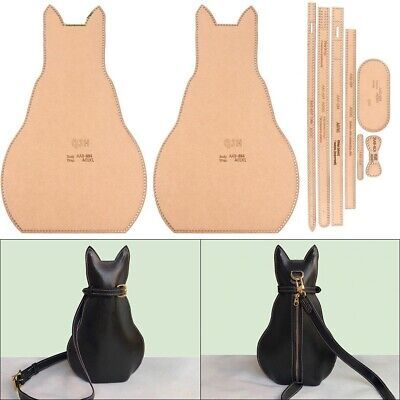cuero: (16, 245, 395, 400)
